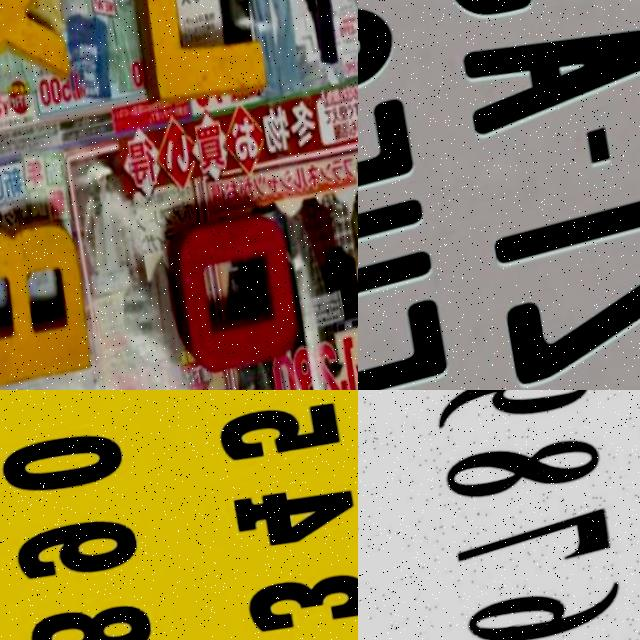0: (0, 398, 149, 520)
2: (504, 244, 640, 390), (358, 0, 412, 138)
3: (245, 553, 358, 640)
4: (221, 457, 358, 579)
5: (203, 390, 358, 486)
6: (440, 552, 640, 640)
7: (429, 475, 640, 610)
8: (434, 404, 640, 527), (15, 581, 179, 640)
9: (0, 491, 165, 608), (420, 390, 632, 458)
A: (453, 0, 640, 141)
E: (358, 290, 463, 390), (358, 93, 430, 235)
L: (116, 0, 283, 128)
O: (159, 200, 318, 374)
R: (0, 205, 115, 390)
T: (487, 152, 640, 290)
U: (358, 190, 449, 335)
X: (0, 0, 86, 112)
